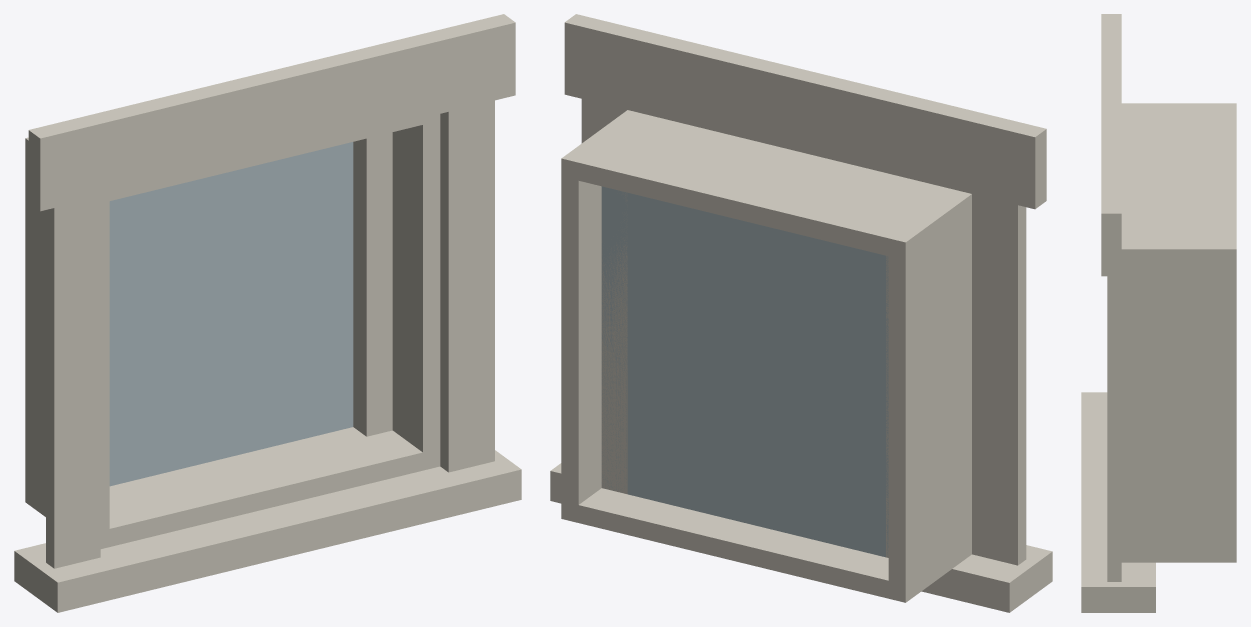
Rendered from kit_window_small.obj.
The picture shows the model from 3 angles, left to right: view 1: azimuth 30°, elevation 25°; view 2: azimuth 150°, elevation 25°; view 3: azimuth 270°, elevation 25°; orthographic projection. The views are drawn at different scales.
Visible parts, largest first — view 1: kit_window_small; view 2: kit_window_small; view 3: kit_window_small.
Boxes of the visible parts, bbox=[...] form: kit_window_small: bbox=[14, 14, 521, 612]; kit_window_small: bbox=[550, 14, 1052, 612]; kit_window_small: bbox=[1081, 14, 1236, 612].
Size of the model in its own units: 0.82 by 0.77 by 0.27.
